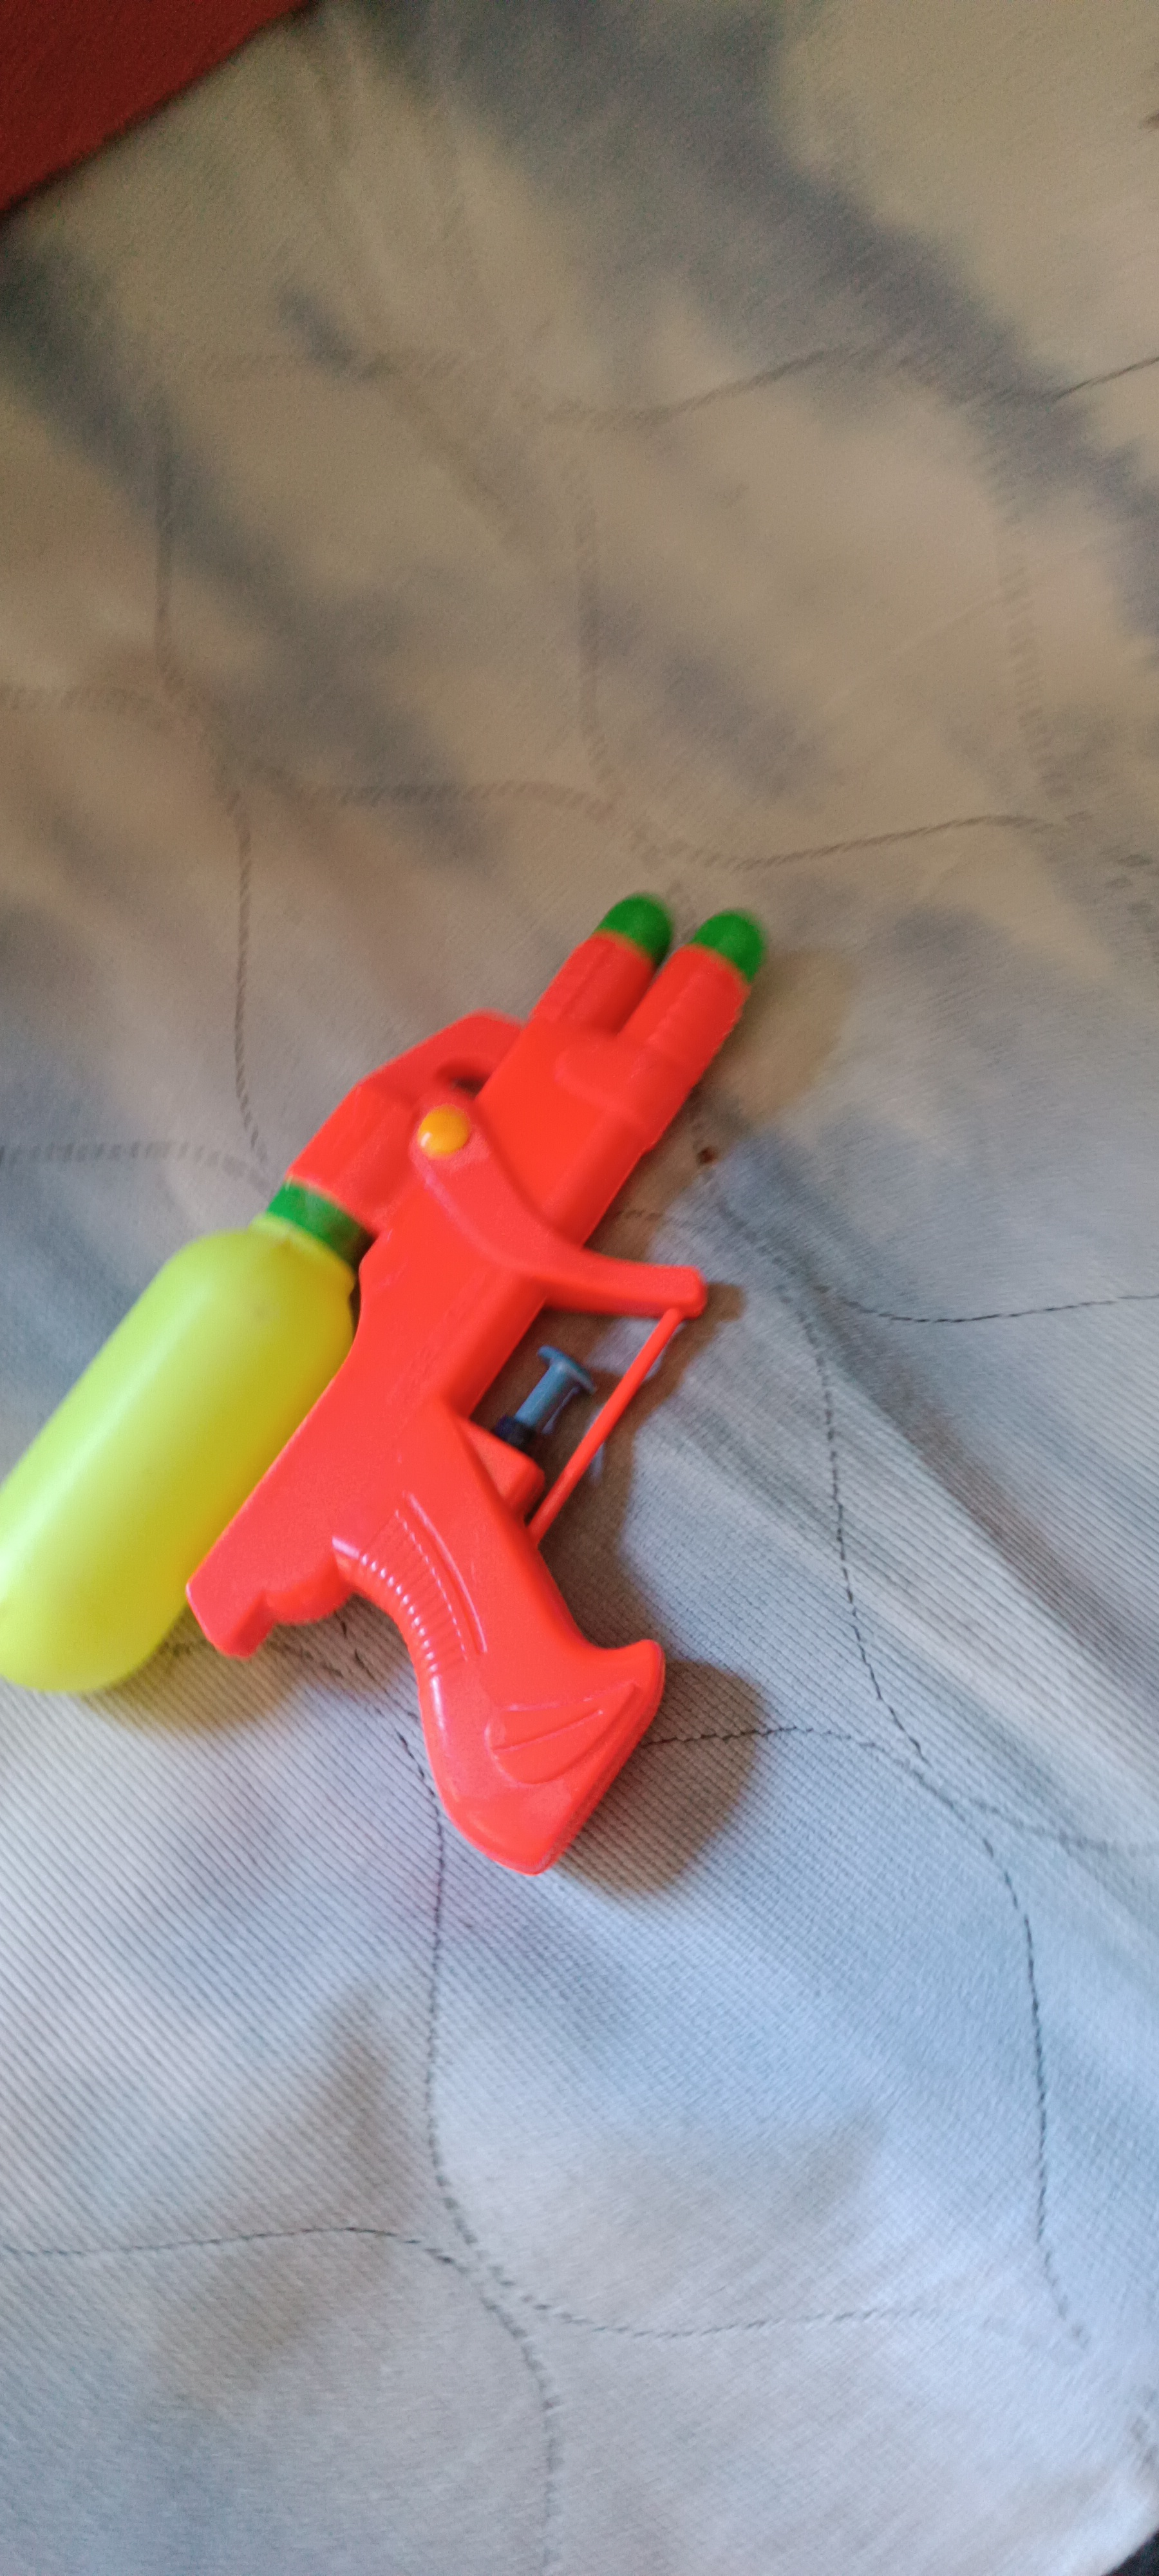Water Gun: (0, 894, 765, 1878)
